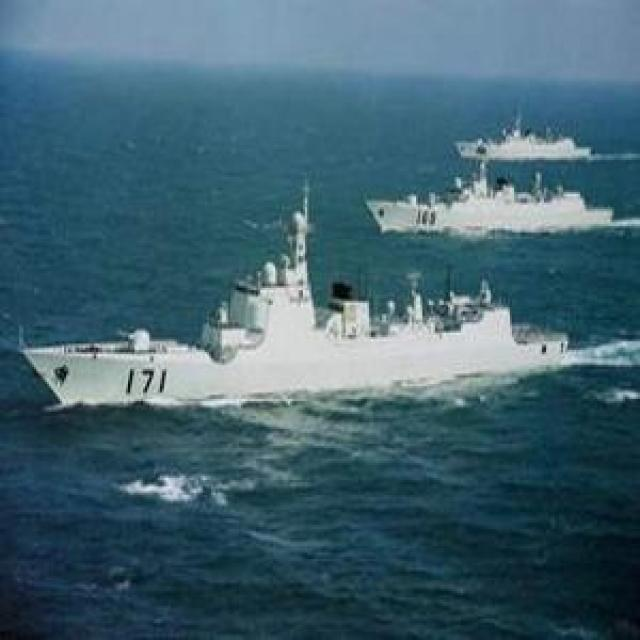navalvessels: (23, 190, 567, 408), (359, 160, 595, 237), (453, 106, 593, 159)
